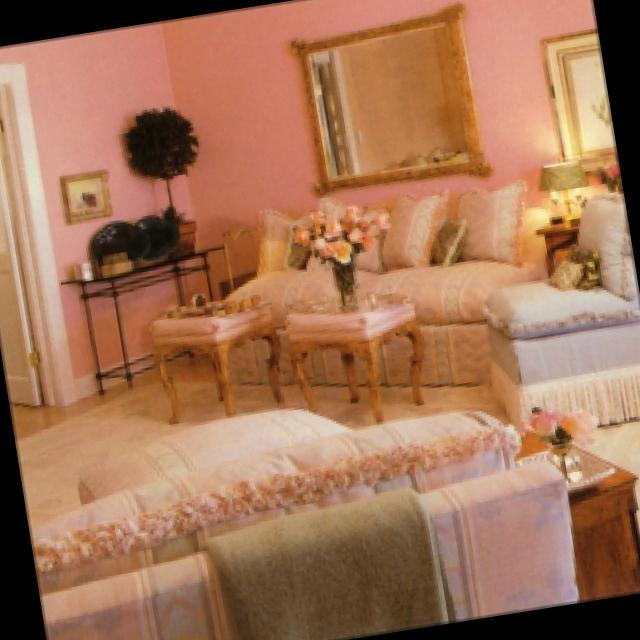armchair crop: (484, 193, 640, 426)
blanket: (206, 486, 460, 640)
bouquet: (290, 201, 391, 314), (520, 407, 602, 476)
bowl -X: (569, 445, 618, 490)
box contants: (76, 260, 95, 277)
cup and saucer: (365, 286, 381, 306)
door bars: (0, 81, 50, 403)
lamp crop: (539, 157, 597, 223)
mirror crop: (291, 0, 495, 198)
ottoman: (79, 401, 359, 502)
painting crop: (543, 23, 614, 154), (61, 166, 118, 221)
pillow occluded: (457, 182, 527, 263), (385, 198, 450, 268), (433, 215, 473, 260), (575, 241, 608, 283), (551, 255, 587, 285)
plant -x: (129, 106, 204, 252), (96, 219, 144, 273)
rug -partially obscured-: (22, 378, 640, 640)
small table part: (525, 437, 640, 600), (287, 295, 428, 419), (153, 302, 288, 419), (536, 216, 582, 272)
sofa bed: (36, 400, 581, 640), (38, 402, 583, 640), (225, 179, 555, 388)
table -X: (65, 238, 234, 294)
